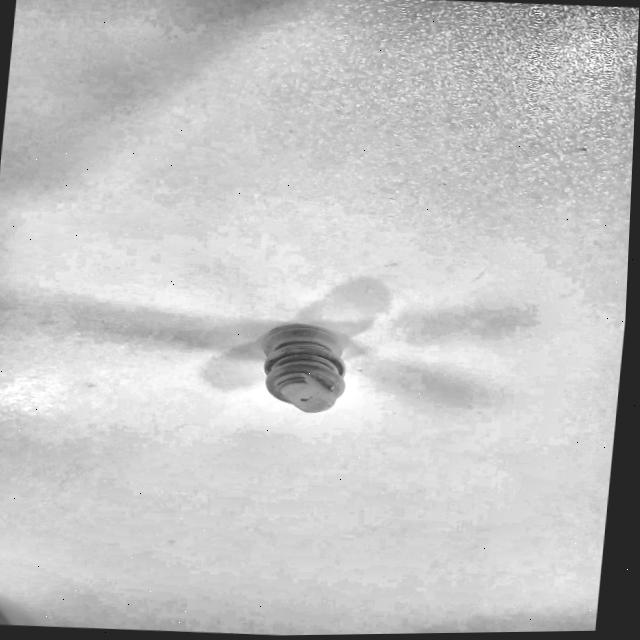white-king: (217, 296, 399, 427)
